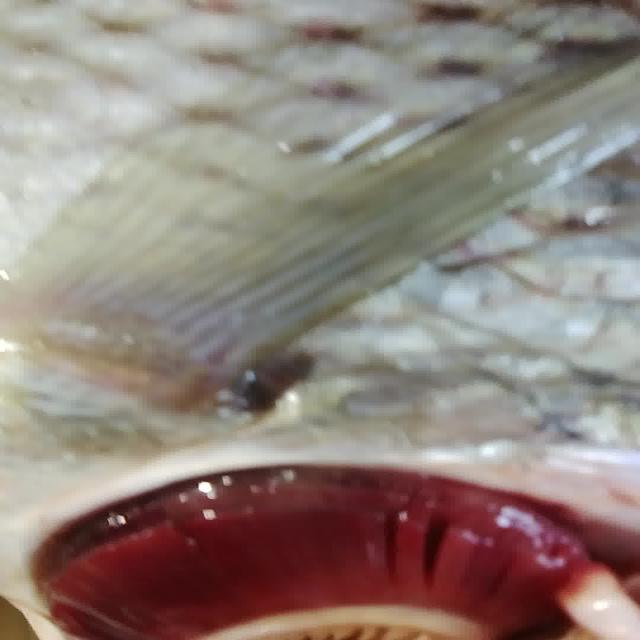Fresh: (14, 457, 621, 640)
